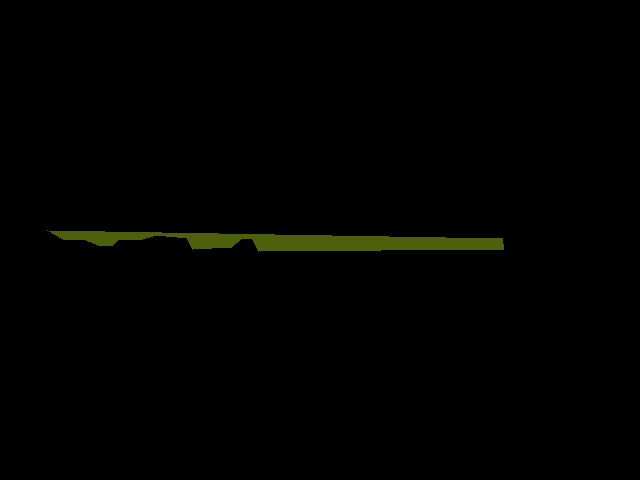Train: (47, 230, 504, 251)
